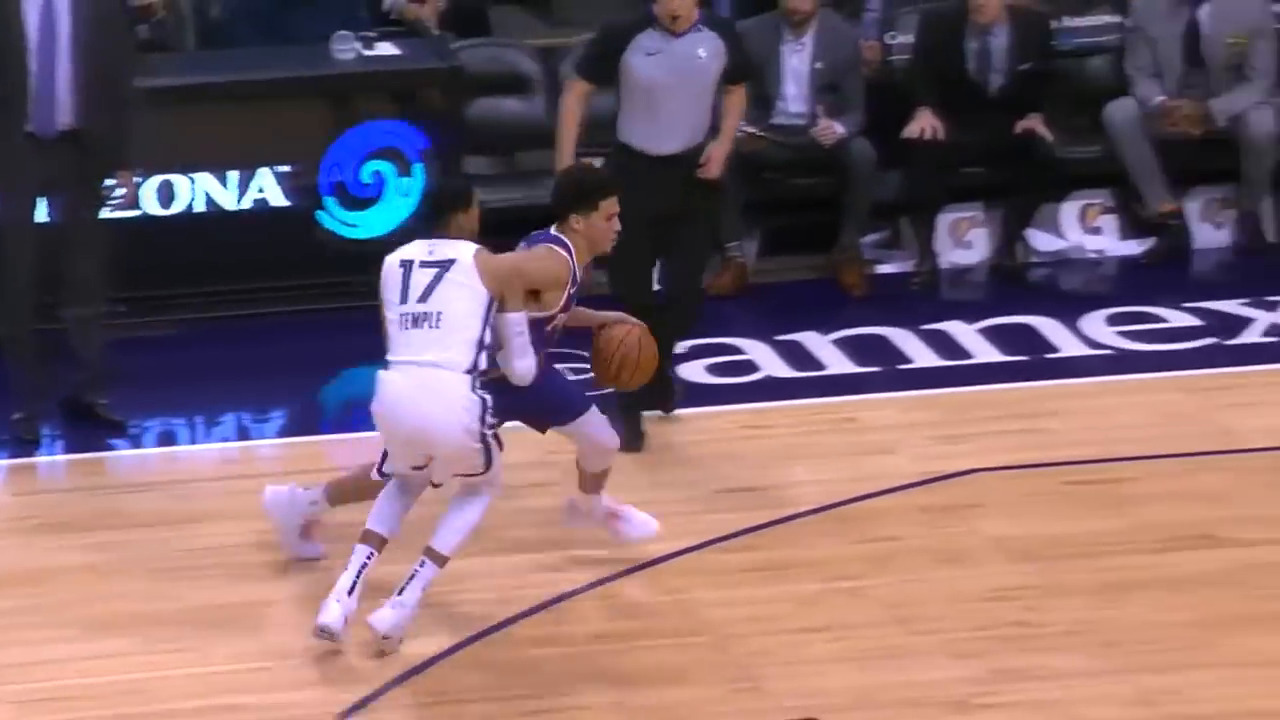ball: (590, 323, 660, 388)
